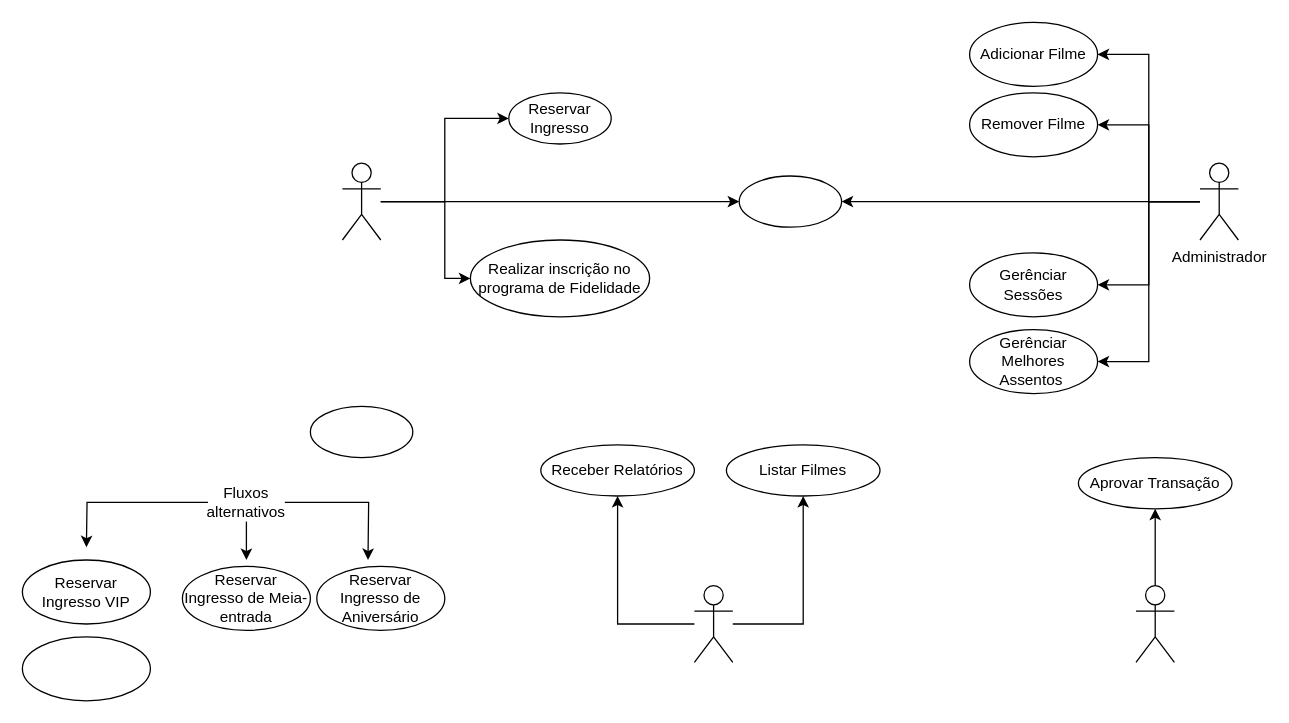
The diagram is 1289 pixels wide and 723 high, and some of its shapes have lost their labels. Each missing label, with the box of its shape:
Ancine: (693, 584, 733, 662)
Cadastrar: (738, 175, 842, 227)
Cliente: (341, 162, 381, 240)
Consultar Filmes: (309, 405, 413, 458)
Reservar Ingresso de Meia-VIP: (21, 636, 150, 701)
Sistema de Pagamento: (1135, 584, 1174, 662)
